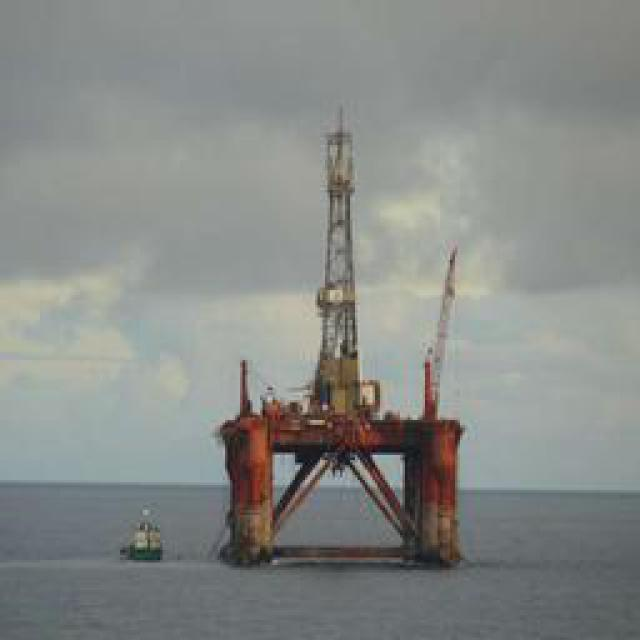Ship: (112, 495, 176, 576)
